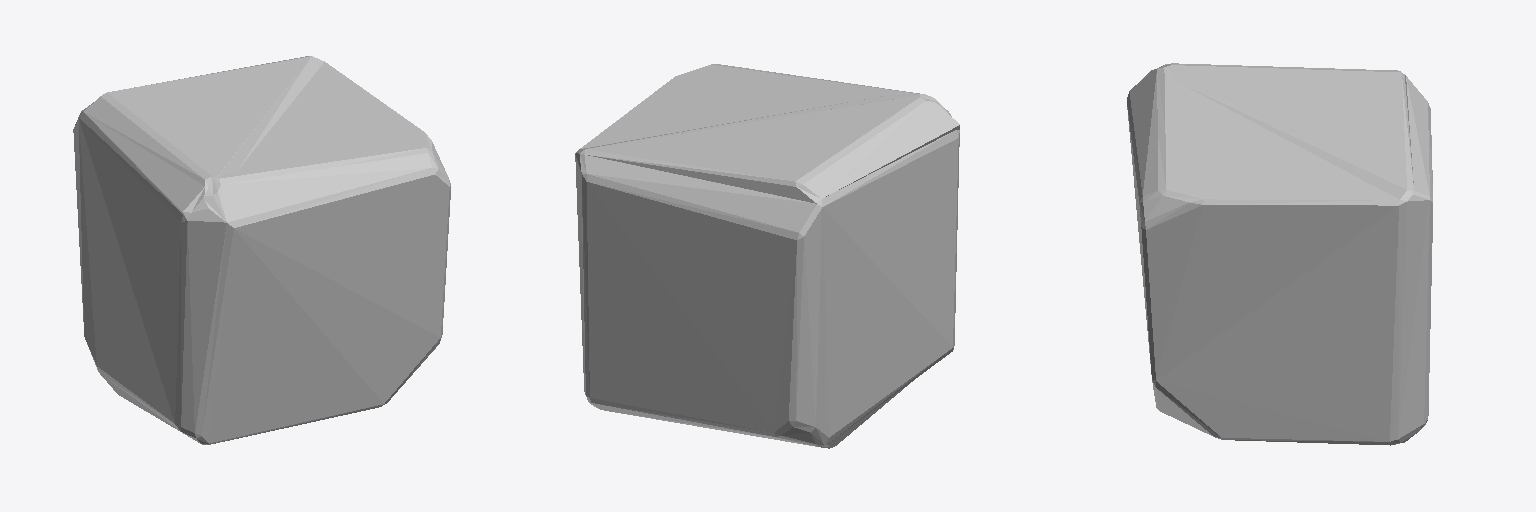
The model's file is rock_cube_0.obj.
3 views of the same model, side by side, from view 1: azimuth 30°, elevation 25°; view 2: azimuth 150°, elevation 25°; view 3: azimuth 270°, elevation 25° (orthographic).
Visible parts, largest first — view 1: rock_cube_0; view 2: rock_cube_0; view 3: rock_cube_0.
Part boxes in pixels (x1,y1,x2,y2): rock_cube_0: (73, 56, 450, 444); rock_cube_0: (575, 64, 959, 448); rock_cube_0: (1127, 63, 1432, 445).
Bounding box in the file's own units: 2.34 × 2.41 × 2.34.